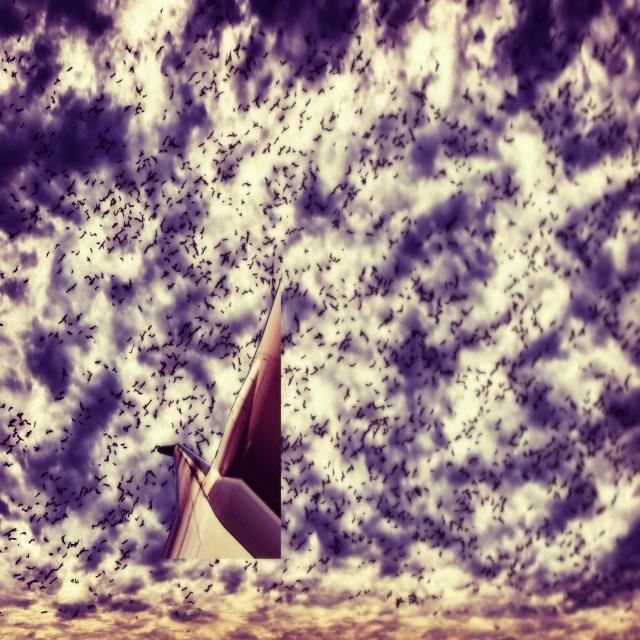airplane: (159, 278, 282, 562)
